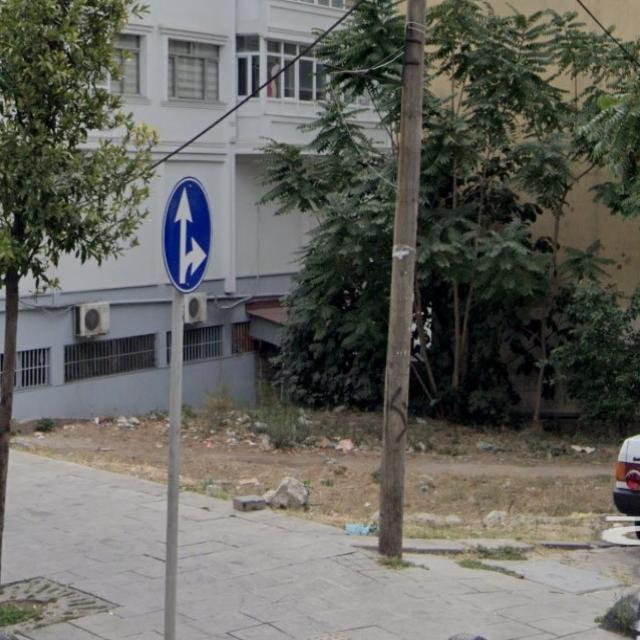ilerisag: (162, 177, 212, 294)
